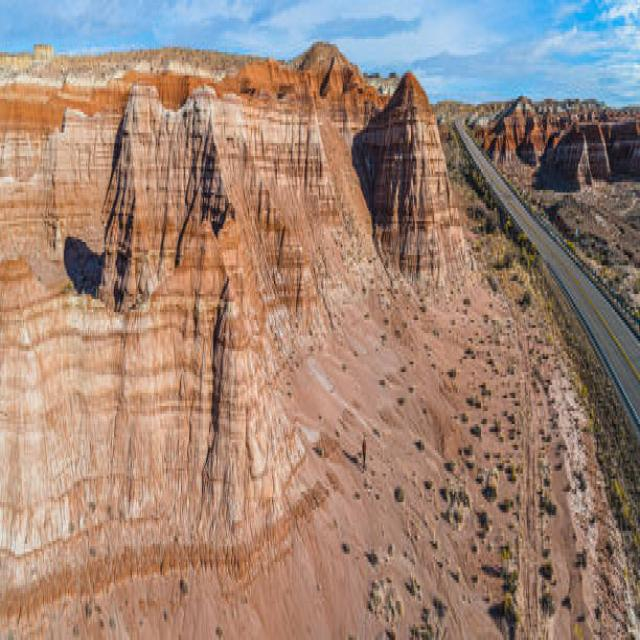Sedimentary: (1, 57, 294, 588), (314, 44, 470, 307)
